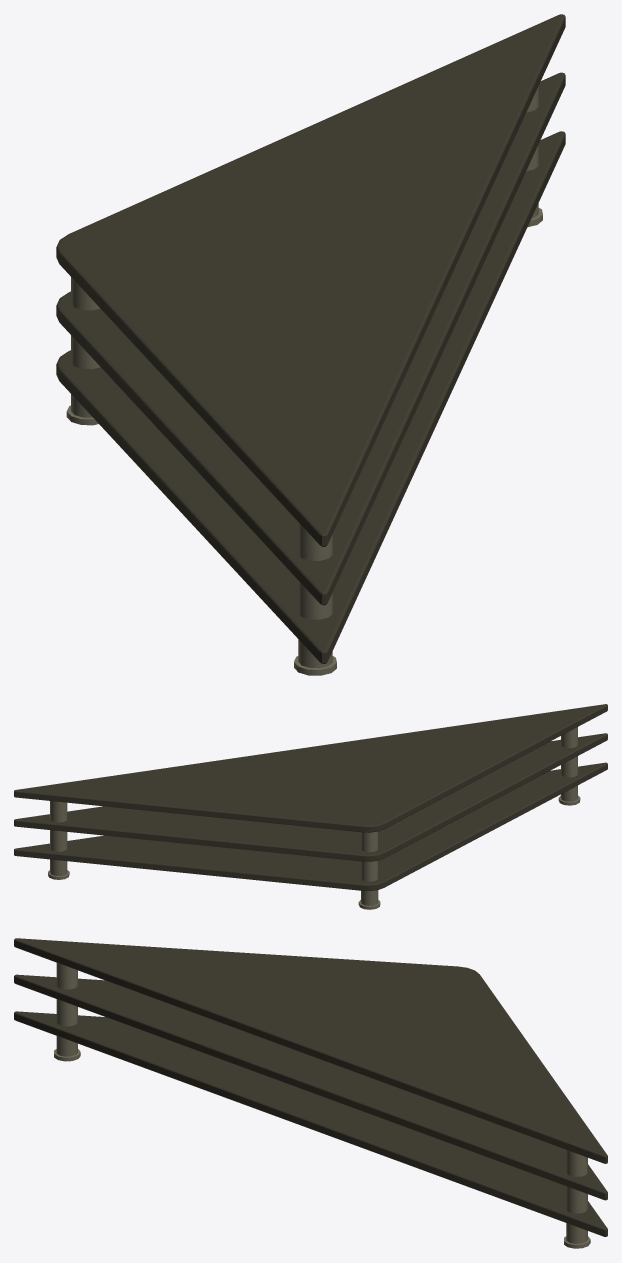
Rendered from Cabinet.obj.
3 views of the same model, one above another, from view 1: azimuth 30°, elevation 25°; view 2: azimuth 150°, elevation 25°; view 3: azimuth 270°, elevation 25° (orthographic). The views are drawn at different scales.
Parts seen in each view (by area): view 1: Cabinet:Mesh; view 2: Cabinet:Mesh; view 3: Cabinet:Mesh.
Part boxes in pixels (left/top/right/bottom): Cabinet:Mesh: left=56, top=14, right=565, bottom=675; Cabinet:Mesh: left=14, top=704, right=607, bottom=909; Cabinet:Mesh: left=14, top=938, right=607, bottom=1248.
Size of the model in its own units: 5.14 by 1.18 by 5.91.
2 materials, 2 textured.
